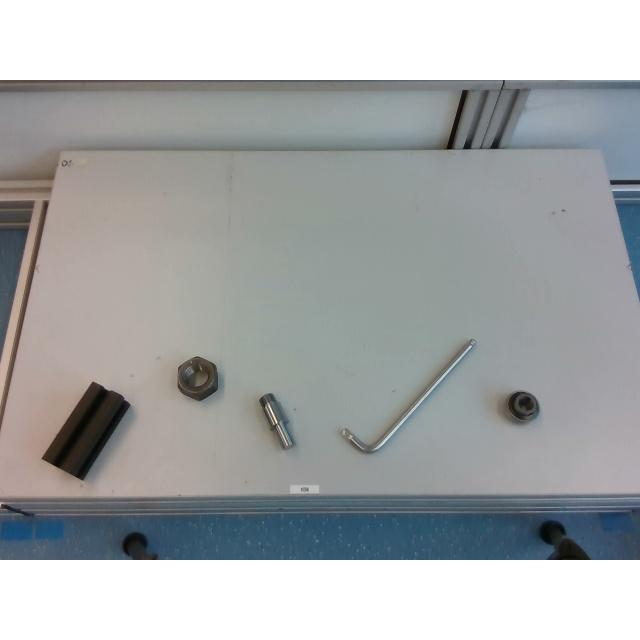AllenKey: (340, 338, 478, 454)
Axis2: (258, 393, 294, 449)
Bearing2: (507, 391, 538, 422)
M30: (178, 356, 218, 400)
S40_40_B: (42, 382, 130, 478)
